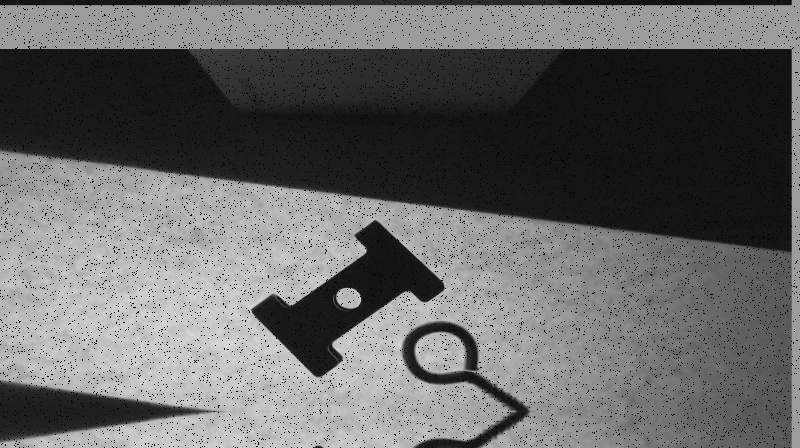O001: (399, 319, 541, 419)
O002: (241, 217, 445, 377)
